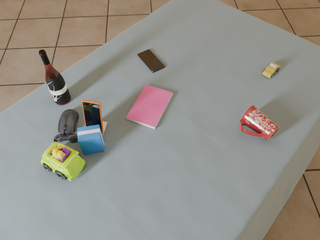book: (126, 85, 173, 129)
bottle: (39, 50, 71, 105)
box: (77, 124, 104, 154)
cup: (240, 105, 280, 141)
mouse: (54, 109, 79, 143)
phone: (82, 100, 103, 133), (138, 49, 165, 72)
toy_car: (41, 142, 85, 181), (262, 62, 280, 78)
